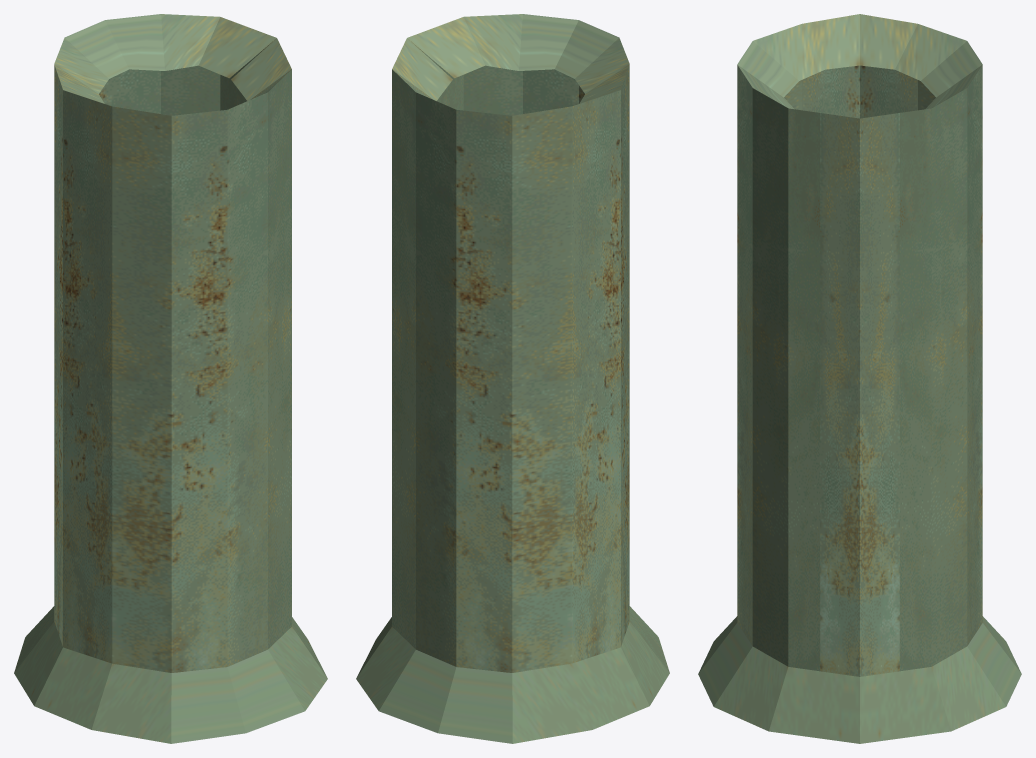
Rendered from button stand.glb.
3 renders of one model, left to right at view 1: azimuth 30°, elevation 25°; view 2: azimuth 150°, elevation 25°; view 3: azimuth 270°, elevation 25°, orthographic.
Visible parts, largest first — view 1: Button stand; view 2: Button stand; view 3: Button stand.
Boxes of the visible parts, <box> form: Button stand: <box>14,14,327,743</box>; Button stand: <box>356,14,669,743</box>; Button stand: <box>698,14,1021,743</box>.
Bounding box in the file's own units: 0.6533 × 1.39 × 0.6677.
1 material, 1 textured.
